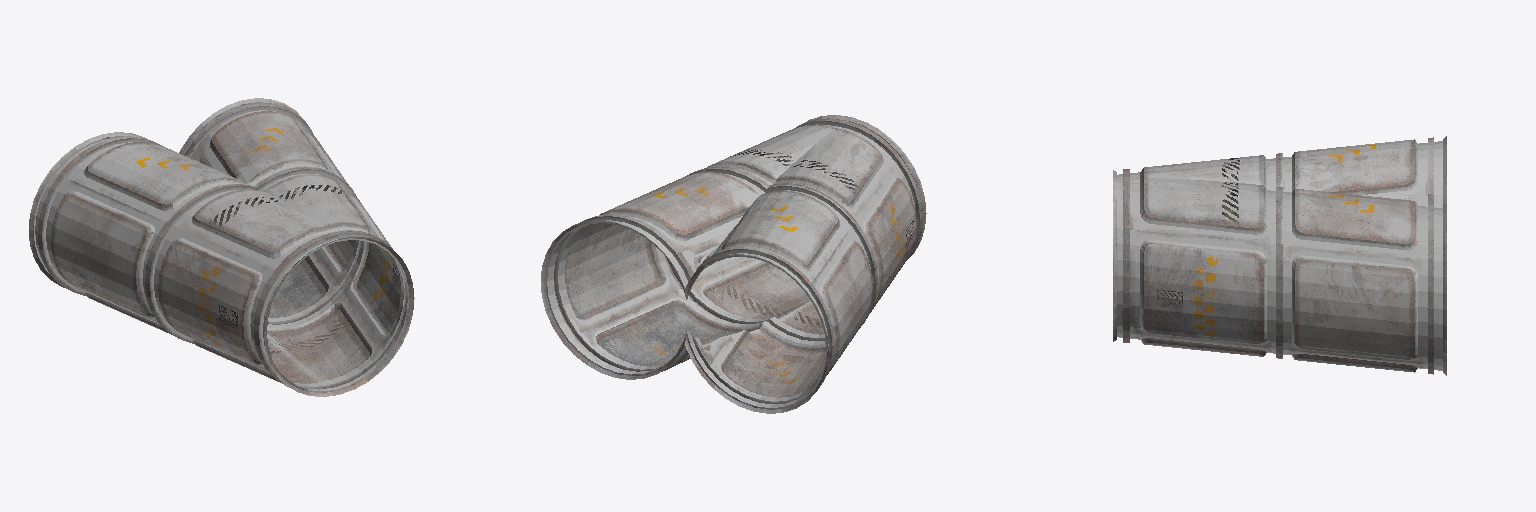
The picture shows the model from 3 angles: view 1: azimuth 30°, elevation 25°; view 2: azimuth 150°, elevation 25°; view 3: azimuth 270°, elevation 25°; orthographic projection.
Parts seen in each view (by area): view 1: Cylinder004; view 2: Cylinder004; view 3: Cylinder004.
Boxes of the visible parts, <box> form: Cylinder004: <box>29,98,414,396</box>; Cylinder004: <box>541,115,926,413</box>; Cylinder004: <box>1113,136,1446,375</box>.
Size of the model in its own units: 20.45 by 10.65 by 20.45.
1 materials, 1 textured.